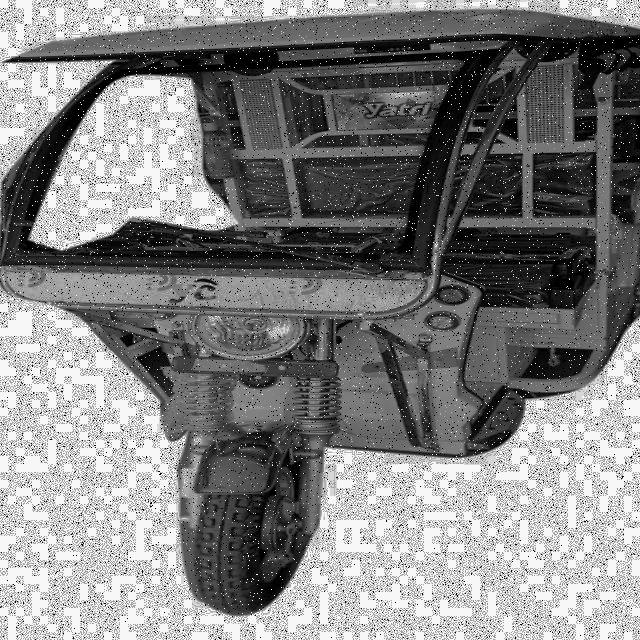Toto: (5, 12, 639, 622)
